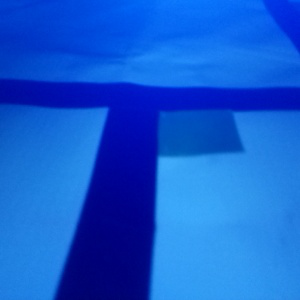bottom_right: (111, 86, 245, 157)
